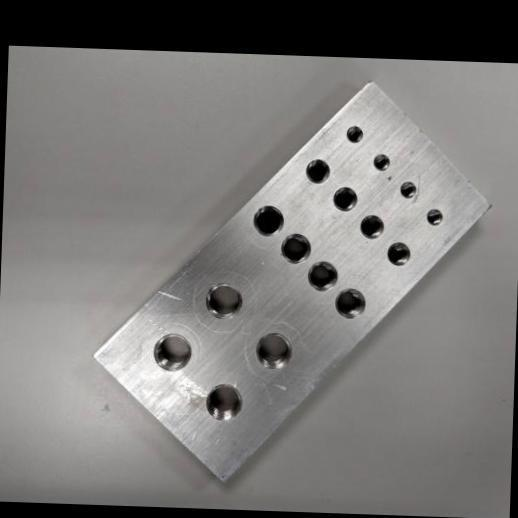hole: (150, 330, 191, 373), (202, 380, 242, 422), (202, 280, 243, 320), (252, 330, 292, 370), (250, 202, 283, 237), (332, 286, 365, 320), (278, 230, 311, 264), (304, 259, 337, 292), (356, 212, 384, 240), (302, 156, 330, 184), (330, 184, 356, 212), (384, 240, 410, 266), (370, 151, 390, 172), (343, 122, 363, 142), (397, 178, 416, 198), (424, 206, 442, 226)
